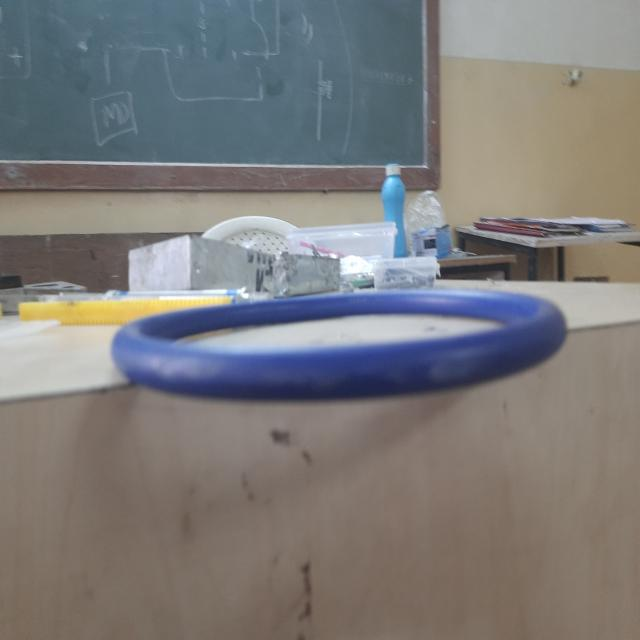daire: (117, 291, 569, 403)
